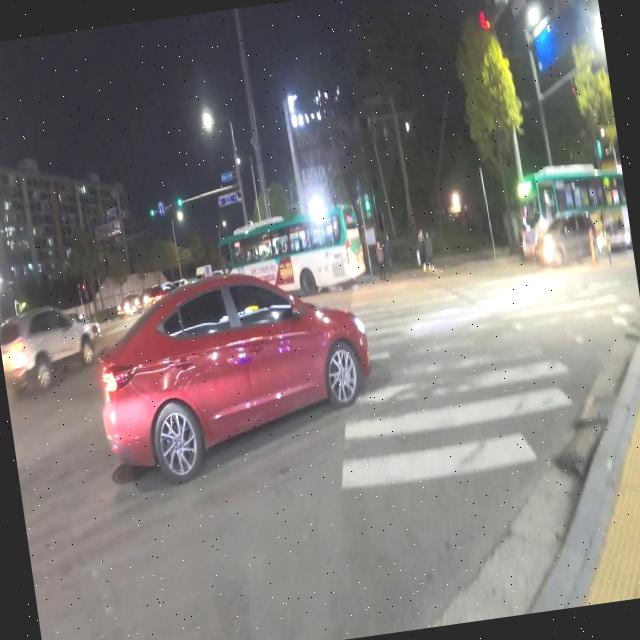crosswalk: (340, 252, 637, 501)
